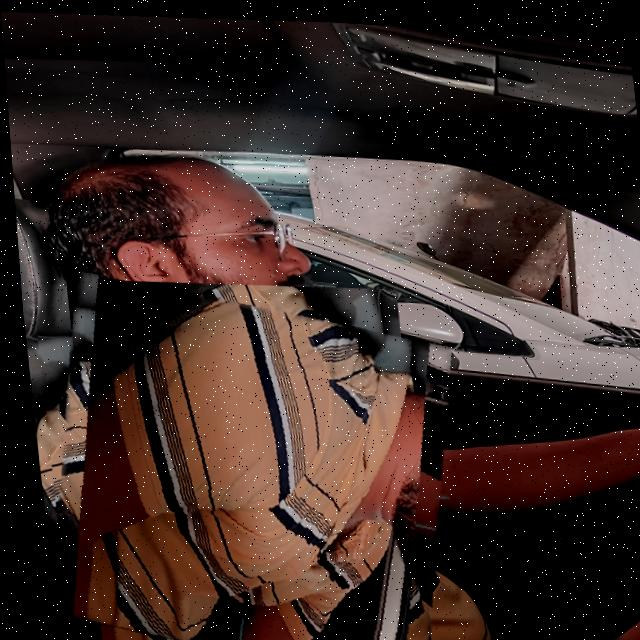no-seatbelt: (26, 269, 462, 640)
